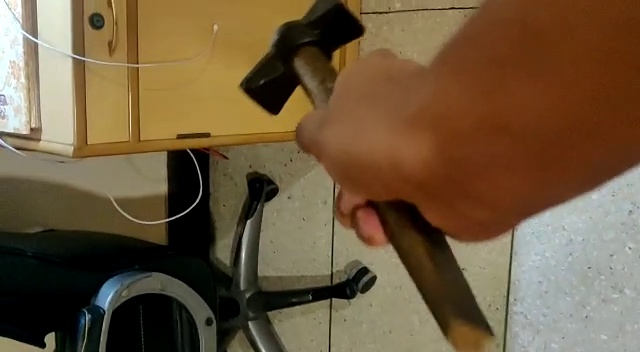hammer: (238, 1, 495, 352)
